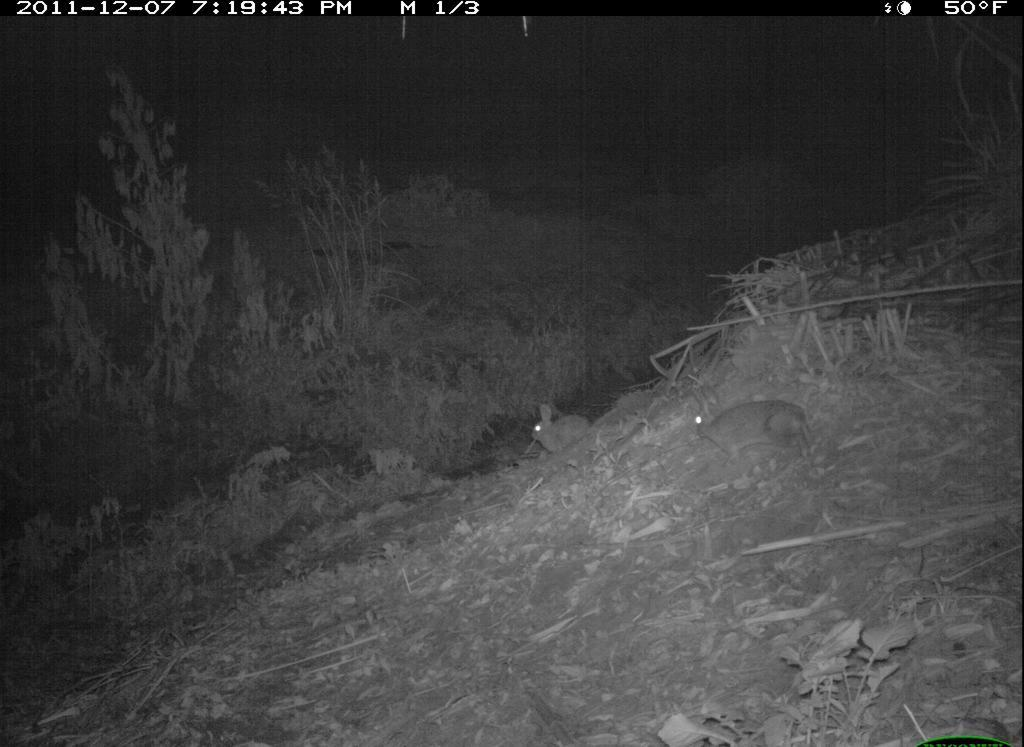rabbit: (687, 379, 820, 464), (527, 396, 596, 461)
